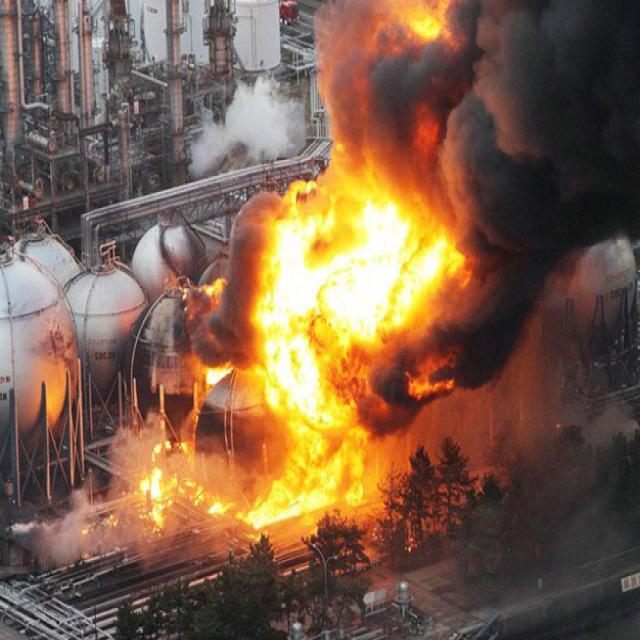fire: (231, 185, 463, 542), (377, 3, 465, 52), (134, 464, 179, 535), (197, 354, 232, 392), (197, 270, 230, 310), (146, 438, 190, 462), (200, 492, 237, 520), (179, 474, 199, 496)
